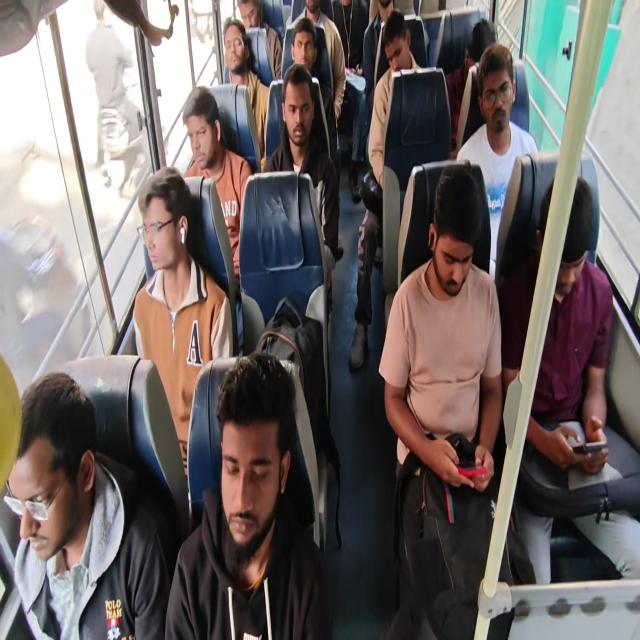person: (1, 380, 87, 551), (212, 374, 278, 560), (544, 193, 590, 302), (142, 180, 189, 272), (432, 185, 469, 289), (184, 97, 224, 168), (481, 59, 517, 128), (281, 83, 318, 141), (382, 23, 415, 73), (462, 25, 495, 74), (292, 25, 321, 75), (228, 0, 265, 37), (216, 28, 244, 66), (369, 0, 398, 18), (300, 0, 323, 16)
